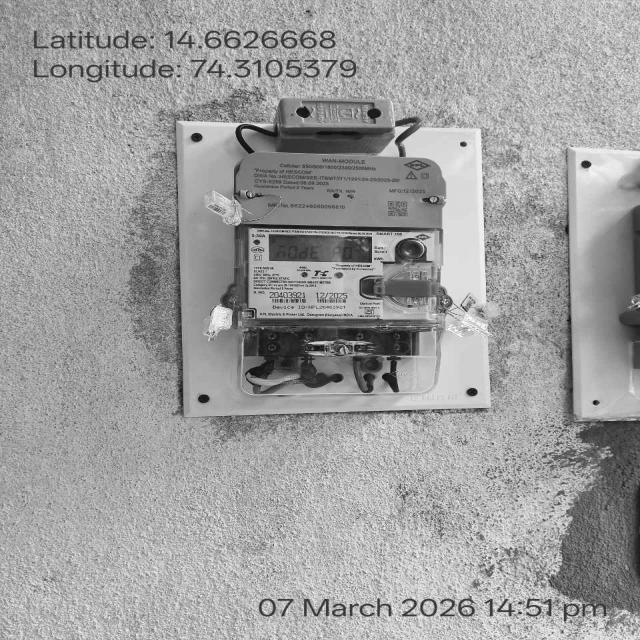meter: (249, 225, 440, 324)
